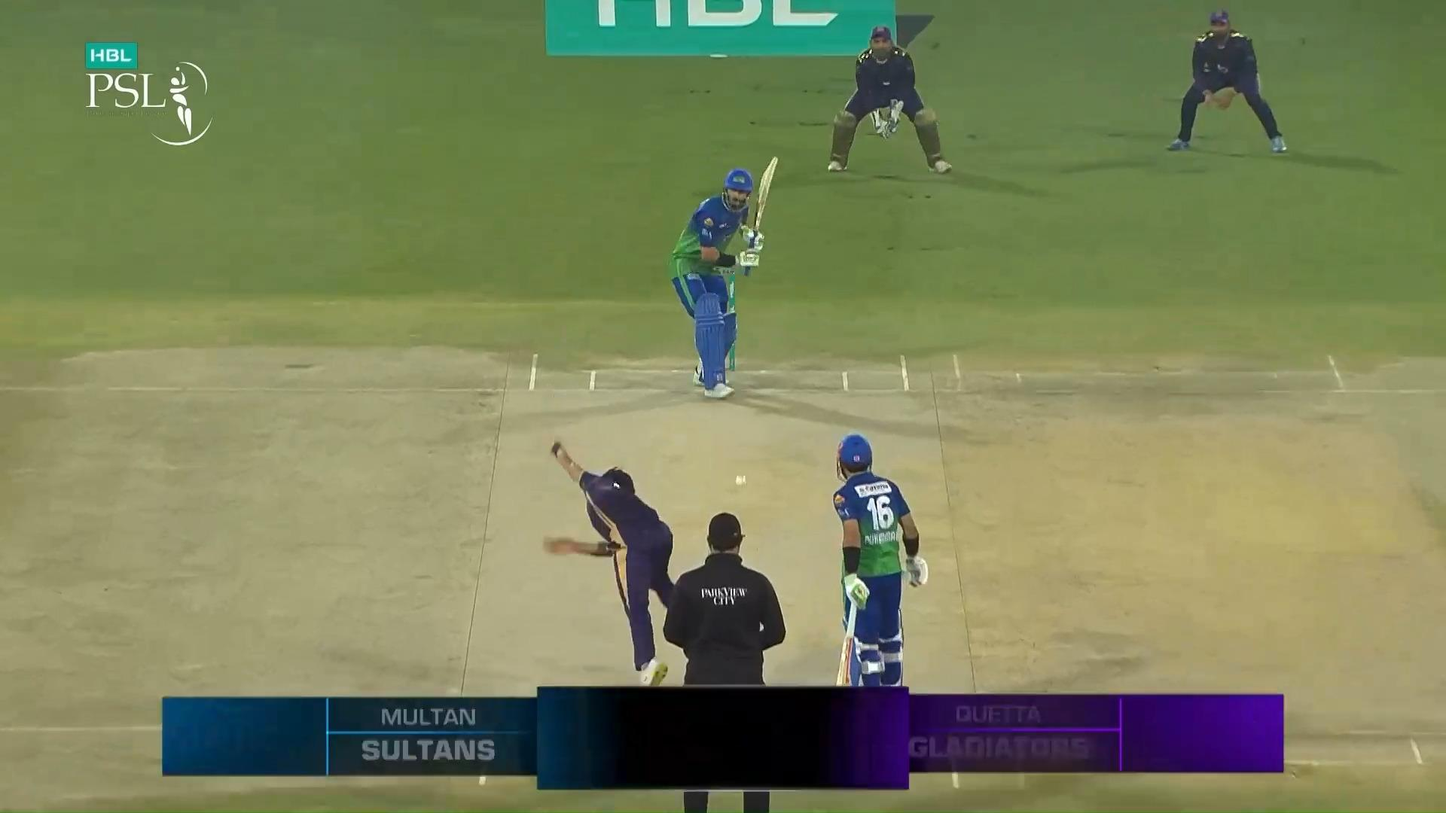batsman: (671, 155, 779, 399)
